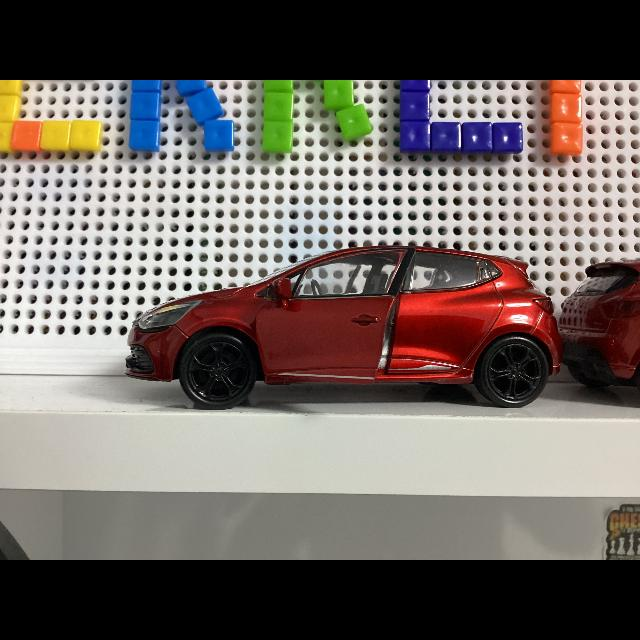Dogru_Jant: (188, 342, 248, 398), (488, 344, 542, 402)
